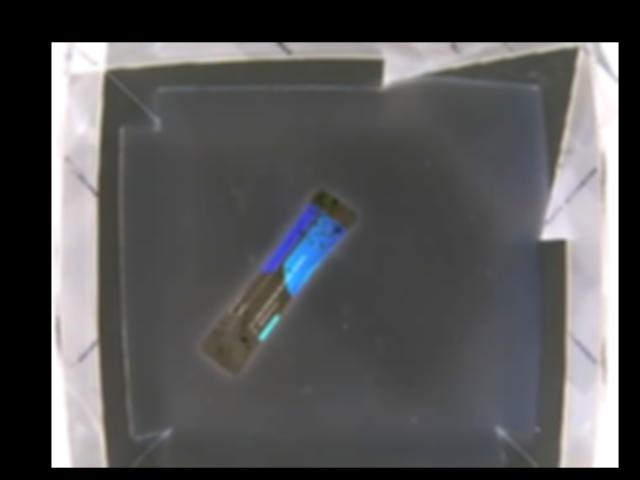Medicine: (197, 186, 358, 379)
